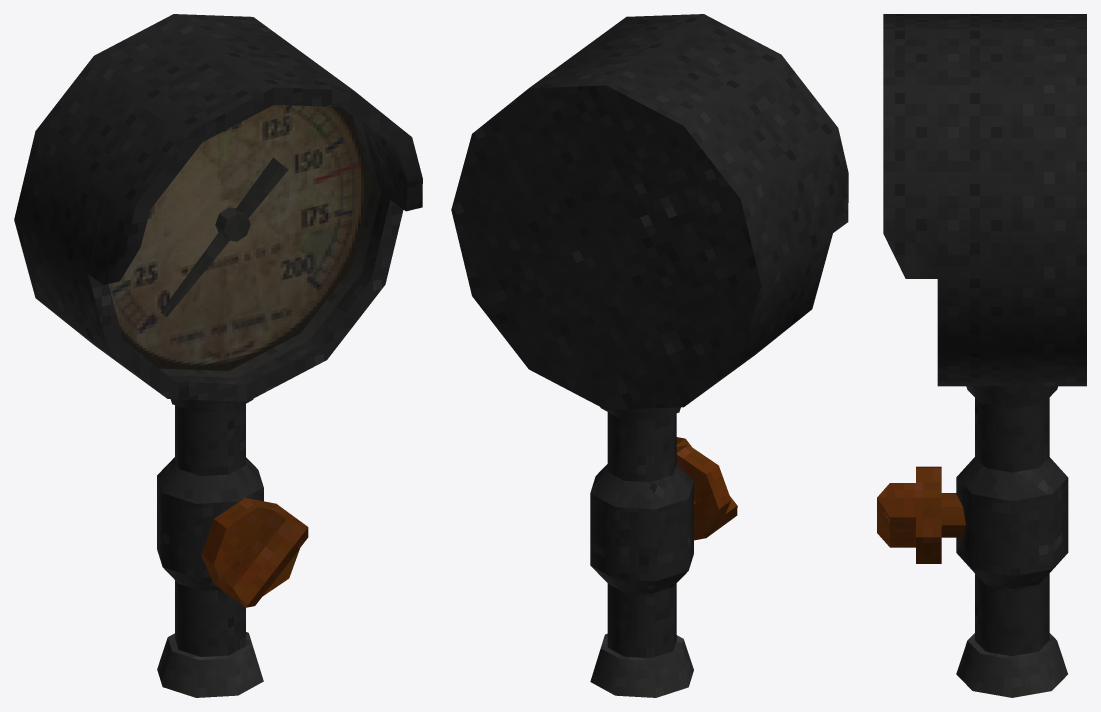
Rendered from gauge_etx_2.glb.
3 views of the same model, side by side, from view 1: azimuth 30°, elevation 25°; view 2: azimuth 150°, elevation 25°; view 3: azimuth 270°, elevation 25° (orthographic). The views are drawn at different scales.
Parts seen in each view (by area): view 1: gauge_etx_2, gauge_etx_2_tiny_valve_child, gauge_pointer_etx_2_child; view 2: gauge_etx_2, gauge_etx_2_tiny_valve_child; view 3: gauge_etx_2, gauge_etx_2_tiny_valve_child.
Boxes of the visible parts, bbox=[...] form: gauge_etx_2: bbox=[14, 14, 422, 697]; gauge_etx_2_tiny_valve_child: bbox=[201, 498, 308, 607]; gauge_pointer_etx_2_child: bbox=[160, 157, 288, 317]; gauge_etx_2: bbox=[451, 14, 848, 697]; gauge_etx_2_tiny_valve_child: bbox=[676, 437, 737, 540]; gauge_etx_2: bbox=[883, 14, 1086, 697]; gauge_etx_2_tiny_valve_child: bbox=[877, 466, 965, 563].
Size of the model in its own units: 0.2 by 0.38 by 0.1124.
Materials: 3 (3 with a texture image).
